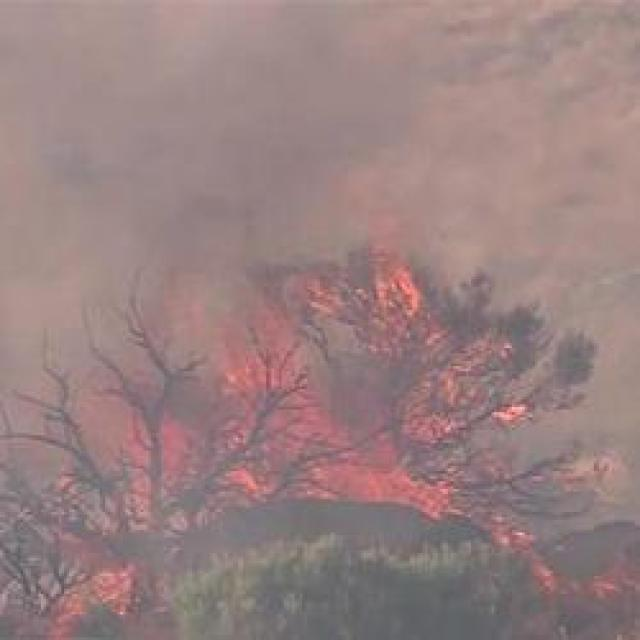Fire: (24, 242, 534, 524), (497, 520, 640, 624), (31, 564, 146, 640)
